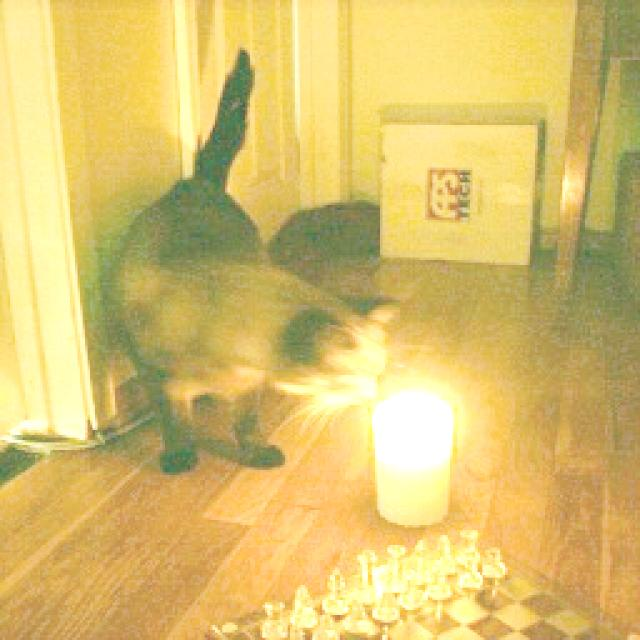cat: (96, 56, 406, 491)
